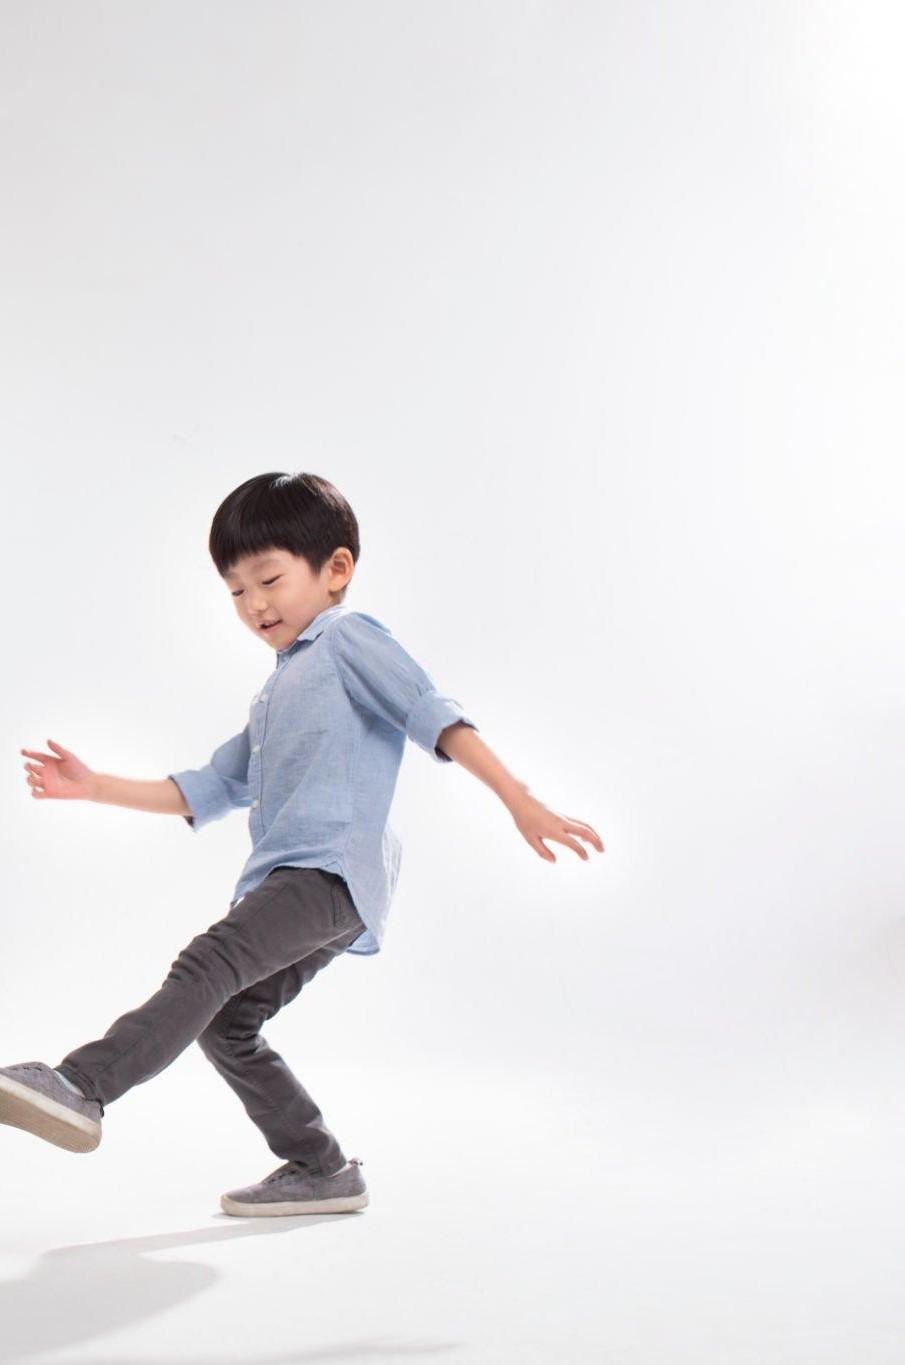Healthy: (192, 466, 386, 686)
